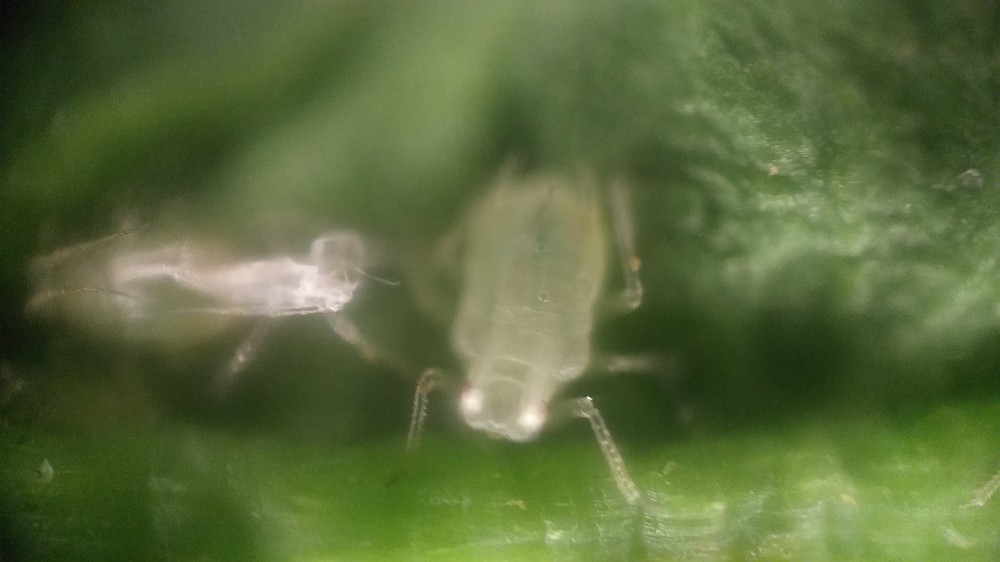Pulgon: (368, 148, 714, 516)
